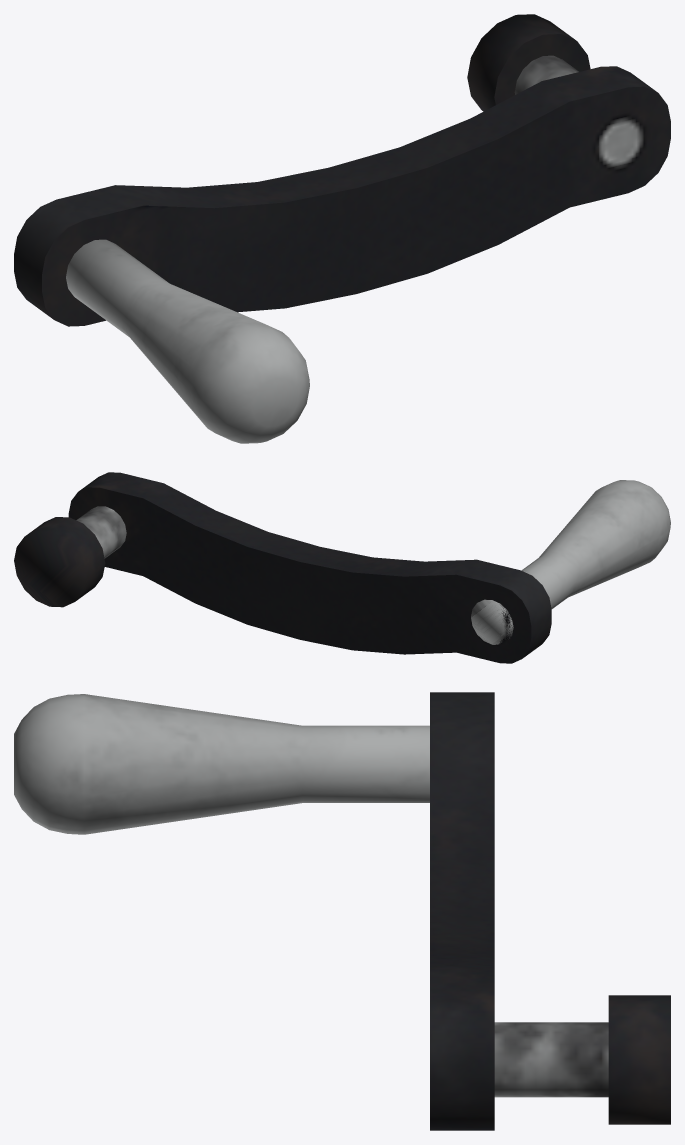
The model's file is mdl_penny_press_crank.gltf.
The picture shows the model from 3 angles, top to bottom: view 1: azimuth 30°, elevation 25°; view 2: azimuth 150°, elevation 25°; view 3: azimuth 270°, elevation 25°; orthographic projection. The views are drawn at different scales.
Visible parts, largest first — view 1: Crank Handle; view 2: Crank Handle; view 3: Crank Handle.
Part boxes in pixels (box(x1,y1,x2,y2)): Crank Handle: box(14, 14, 670, 443); Crank Handle: box(14, 472, 670, 663); Crank Handle: box(14, 692, 670, 1130).
Bounding box in the file's own units: 0.2064 × 0.0448 × 0.162.
1 material, 1 textured.
